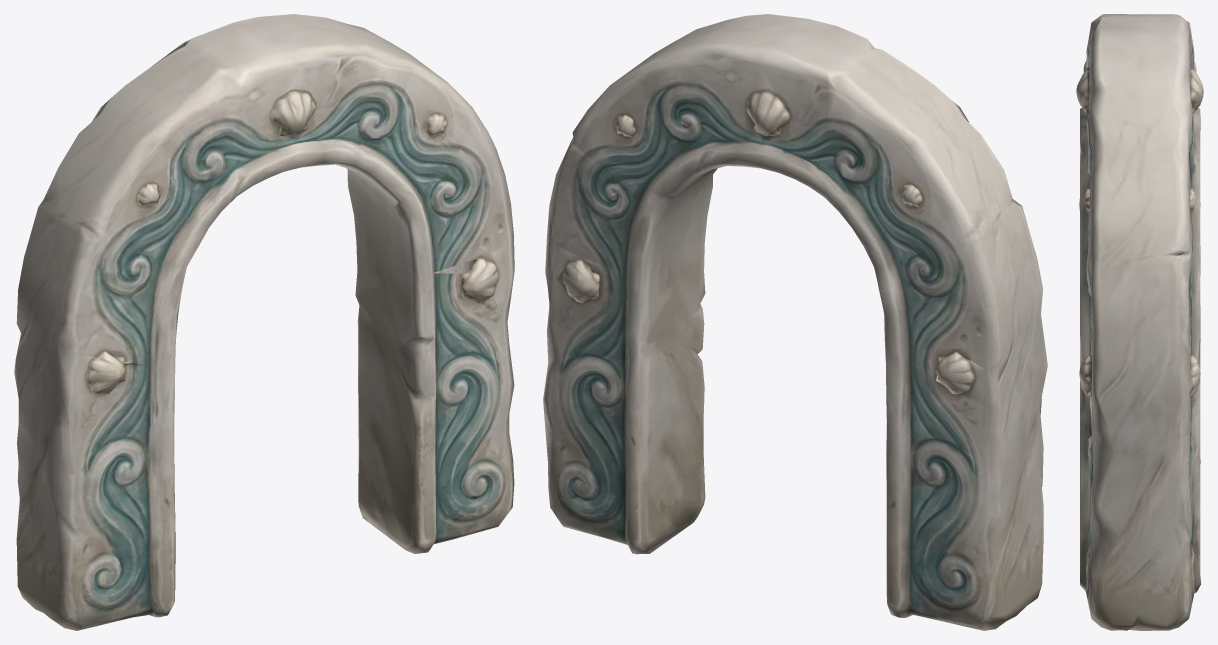
File: arch.glb
3 views of the same model, side by side, from view 1: azimuth 30°, elevation 25°; view 2: azimuth 150°, elevation 25°; view 3: azimuth 270°, elevation 25° (orthographic). The views are drawn at different scales.
Bounding box in the file's own units: 0.905 × 1 × 0.2326.
Materials: 1 (1 with a texture image).
